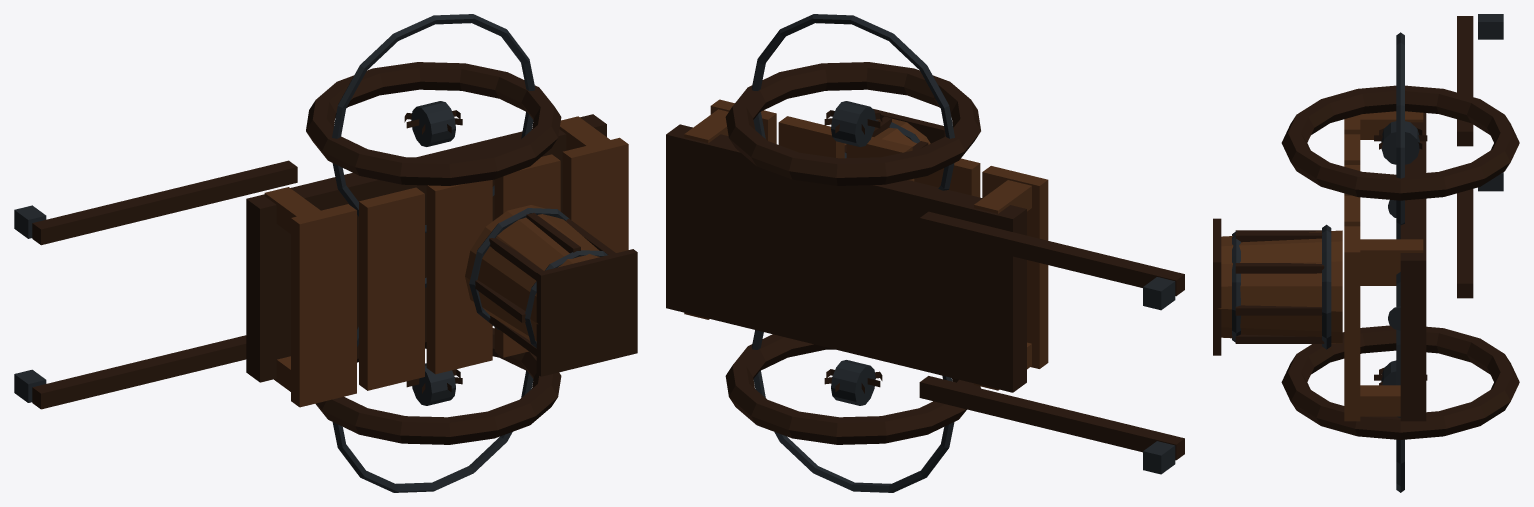
Rendered from Northern_Handcart.obj.
3 views of the same model, side by side, from view 1: azimuth 30°, elevation 25°; view 2: azimuth 150°, elevation 25°; view 3: azimuth 270°, elevation 25° (orthographic). The views are drawn at different scales.
Visible parts, largest first — view 1: Northern_Handcart; view 2: Northern_Handcart; view 3: Northern_Handcart.
Part boxes in pixels (<box>): Northern_Handcart: <box>14,14,637,492</box>; Northern_Handcart: <box>666,14,1184,492</box>; Northern_Handcart: <box>1213,14,1519,492</box>.
Bounding box in the file's own units: 356 × 302 × 190.
